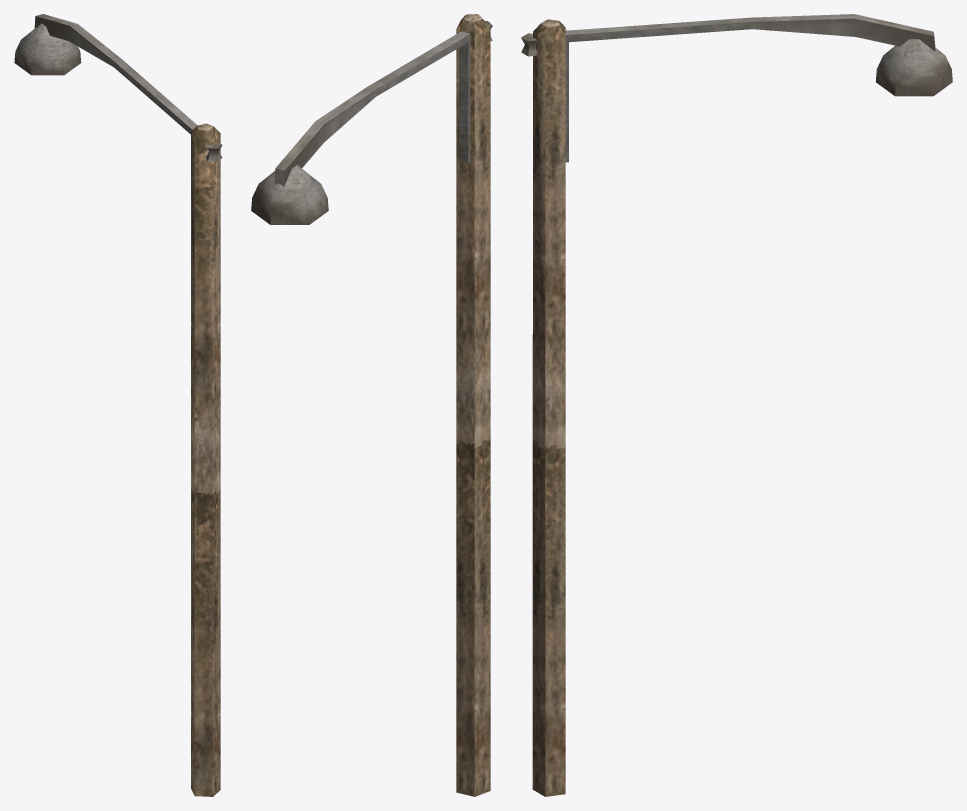
File: PosteLuz.fbx
The picture shows the model from 3 angles, left to right: view 1: azimuth 30°, elevation 25°; view 2: azimuth 150°, elevation 25°; view 3: azimuth 270°, elevation 25°; orthographic projection. The views are drawn at different scales.
Visible parts, largest first — view 1: lamppost; view 2: lamppost; view 3: lamppost.
Part boxes in pixels (x1,y1,x2,y2): lamppost: (14,14,222,796); lamppost: (251,14,492,796); lamppost: (521,14,952,796).
Size of the model in its own units: 0.486 by 3.14 by 6.21.
1 material, 1 textured.
